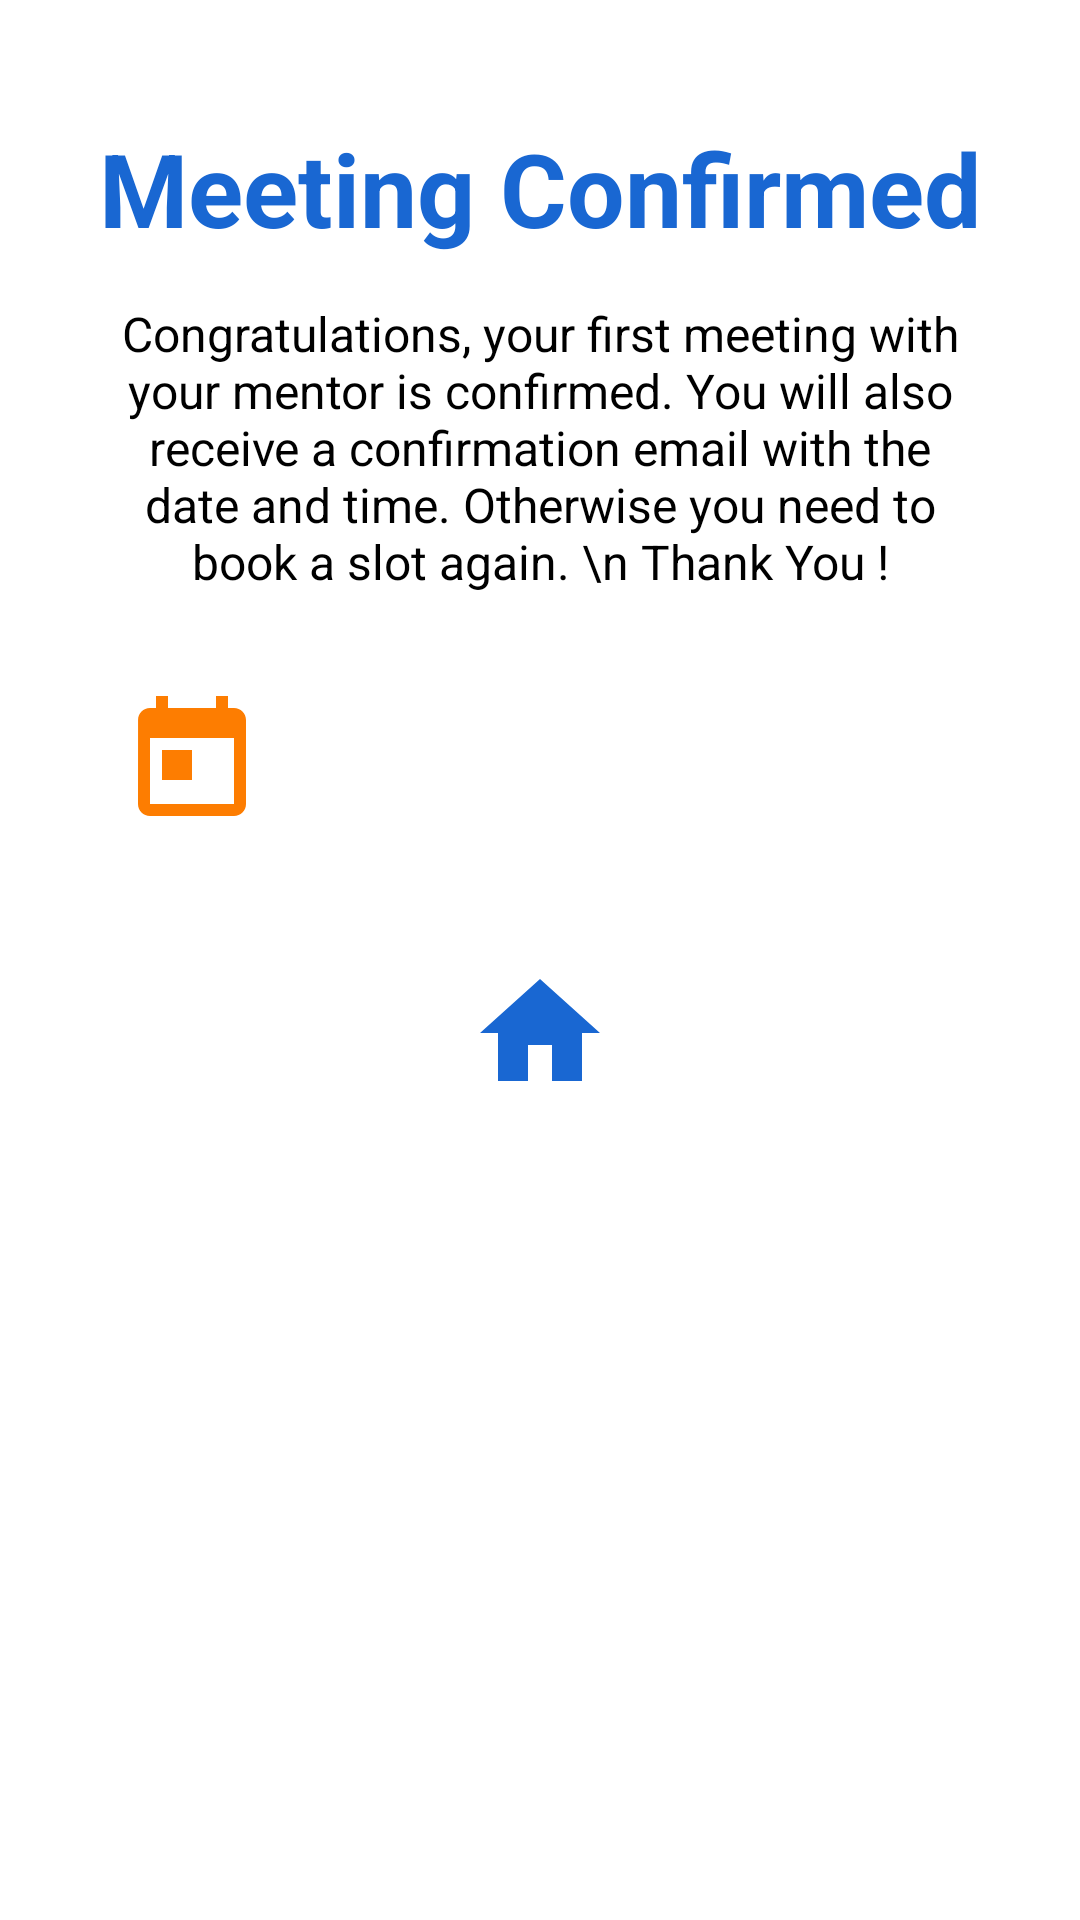

Icons on this 1080px x 1920px Android screen, each with its box as (left=x1, top=y1, right=x2, bottom=y2):
home: (left=480, top=979, right=600, bottom=1081)
